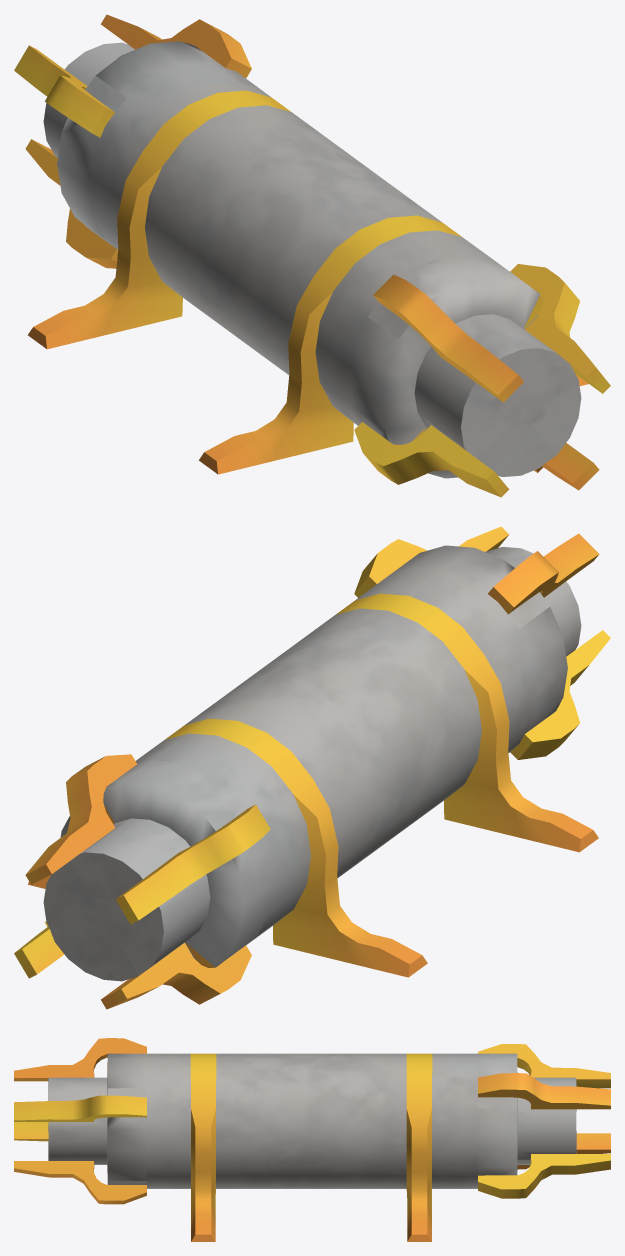
Rendered from Corridor_NEG.fbx.
3 renders of one model, top to bottom at view 1: azimuth 30°, elevation 25°; view 2: azimuth 150°, elevation 25°; view 3: azimuth 270°, elevation 25°, orthographic. The views are drawn at different scales.
Parts seen in each view (by area): view 1: corridor_NEG; view 2: corridor_NEG; view 3: corridor_NEG.
Boxes of the visible parts, left/top/right/bottom form: corridor_NEG: left=14, top=14, right=610, bottom=497; corridor_NEG: left=14, top=526, right=610, bottom=1009; corridor_NEG: left=14, top=1038, right=610, bottom=1241.
Size of the model in its own units: 27.84 by 14.52 by 59.79.
